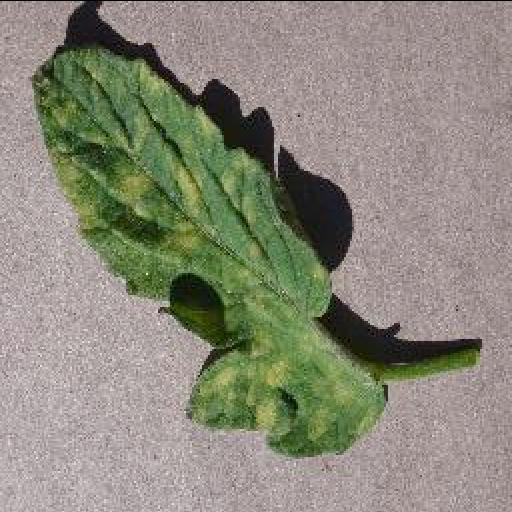disease_tomato: (31, 46, 385, 456)
